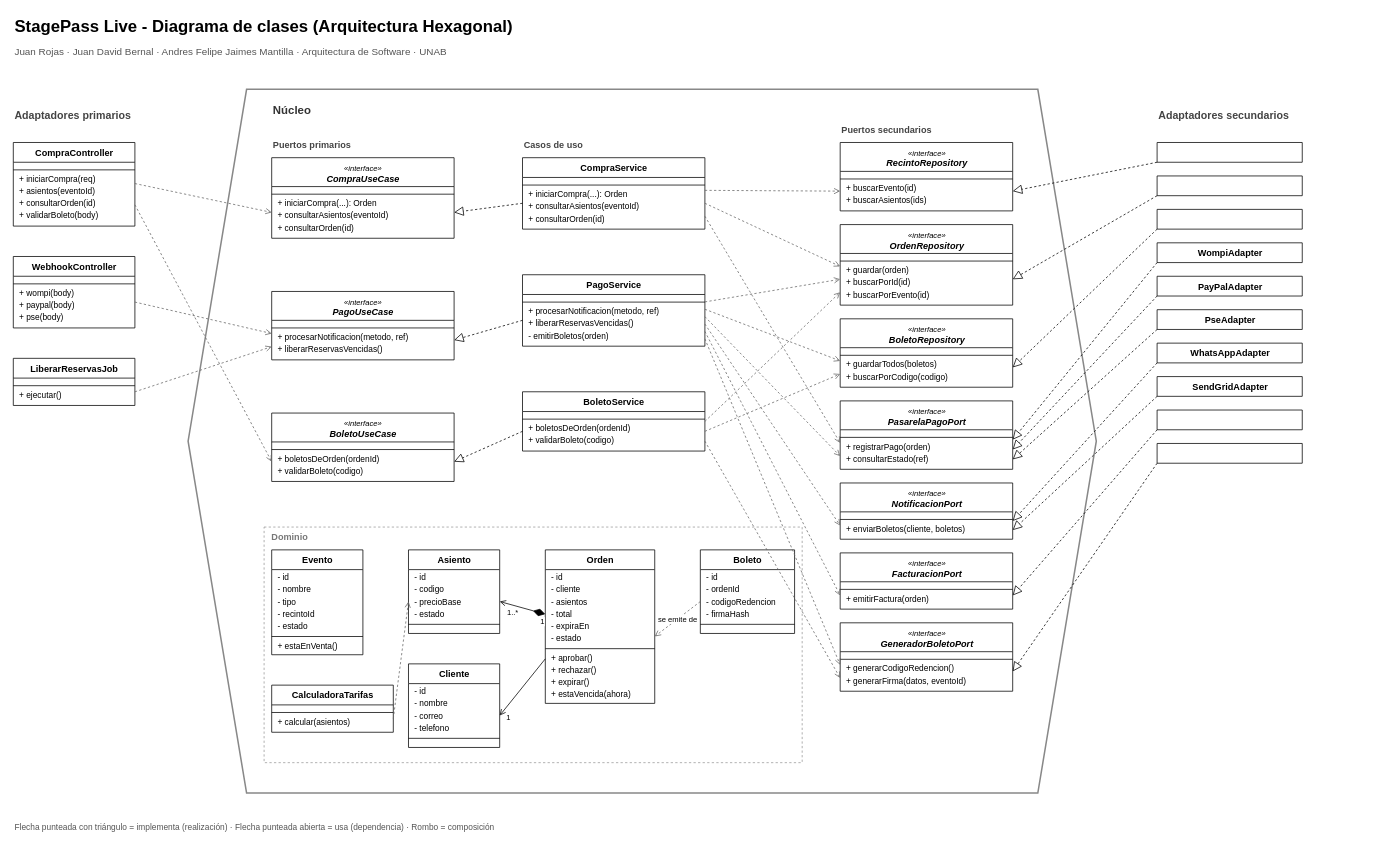
Some shapes in this 1398 by 851 pixel diagram are drawn without their labels. Each missing label, with the centre of its shape:
"DianAdapter" goes at (x=1229, y=419).
"GeneradorBoletoAdapter" goes at (x=1229, y=453).
"MongoBoletoAdapter" goes at (x=1229, y=219).
"MongoOrdenAdapter" goes at (x=1229, y=185).
"MySqlRecintoAdapter" goes at (x=1229, y=152).
